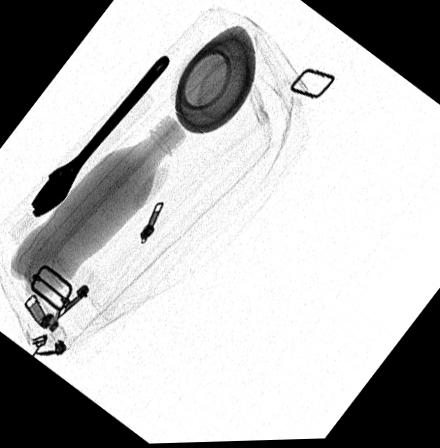Wrench: (30, 54, 172, 217)
